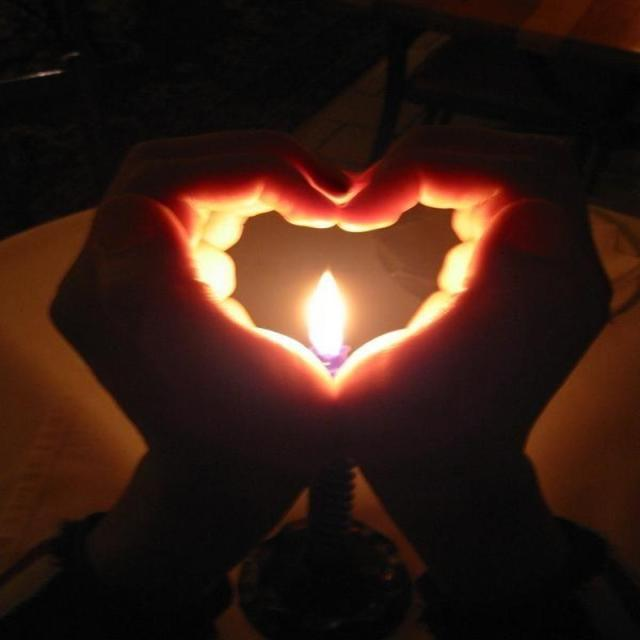Fire: (300, 266, 348, 360)
